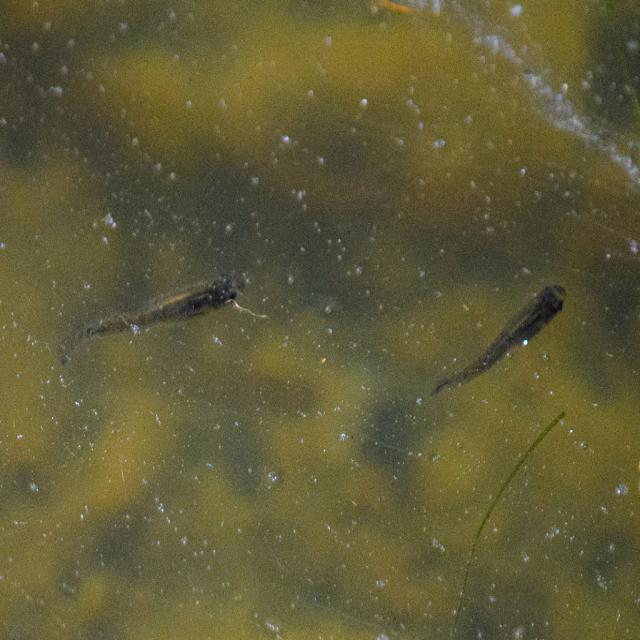Sivrisinek Baligi: (411, 271, 569, 412), (55, 263, 246, 377)
